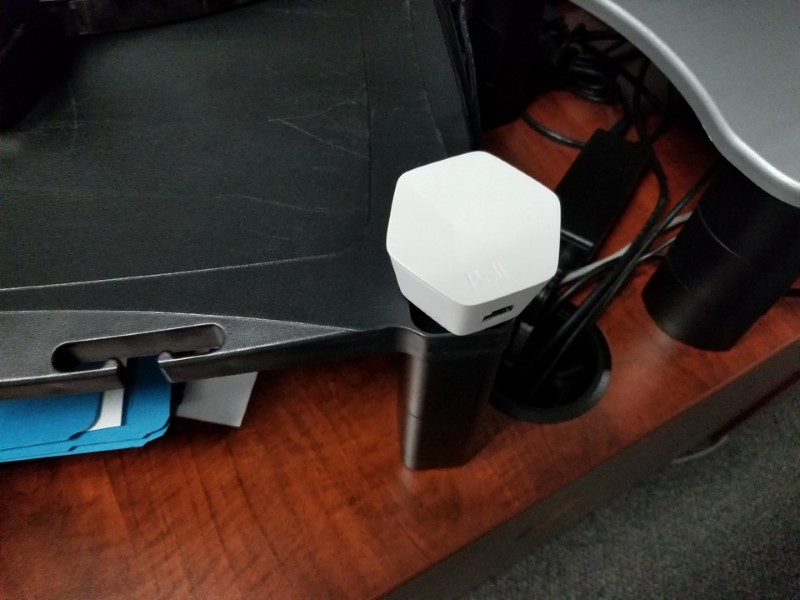pod: (380, 147, 570, 339)
